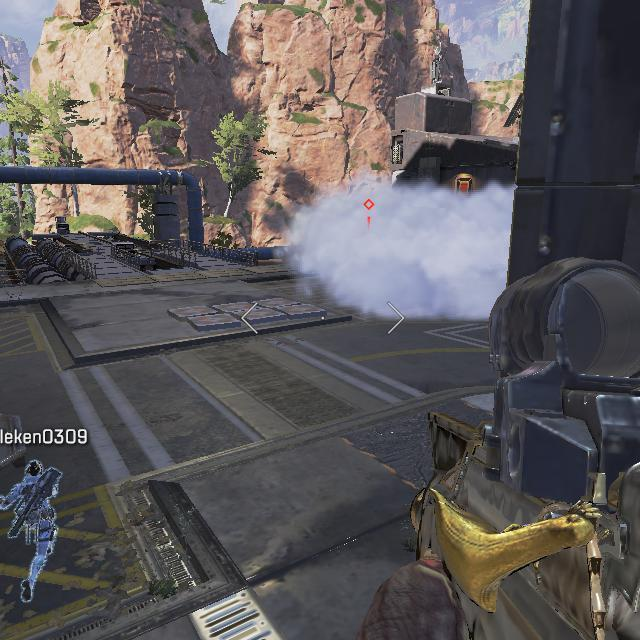avatar: (6, 455, 65, 605)
